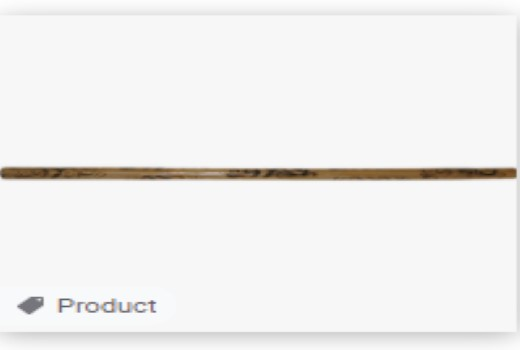baston_e: (17, 163, 496, 186)
baston_v: (509, 164, 519, 181), (0, 165, 10, 181)
